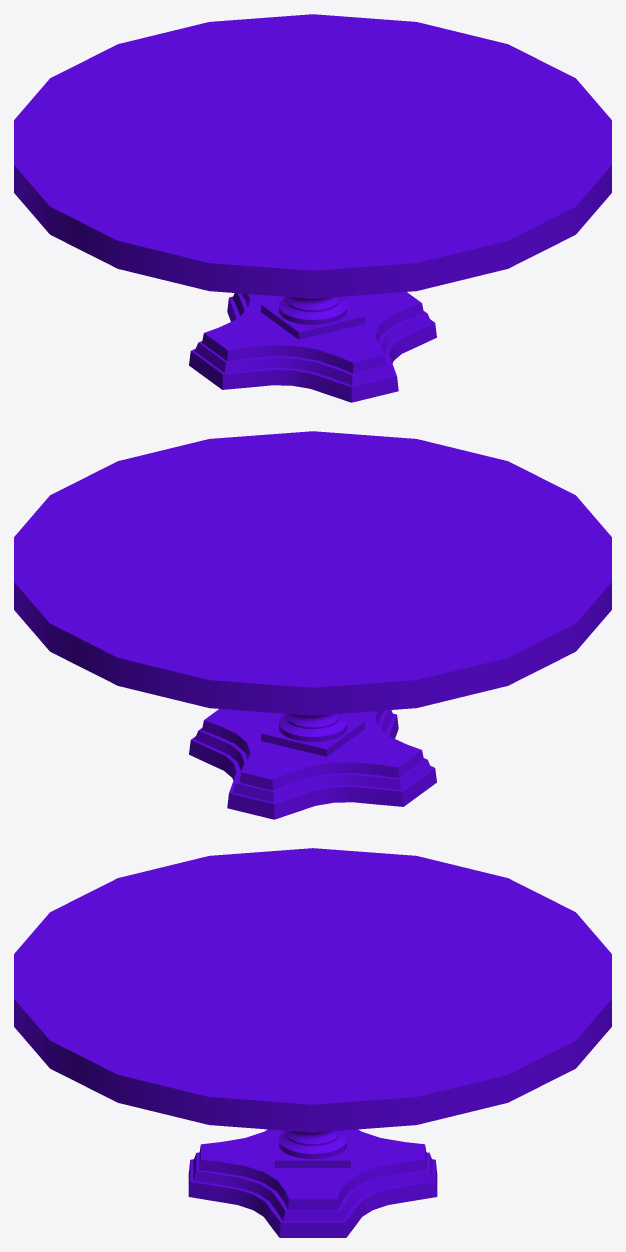
File: table_low.fbx
3 views of the same model, one above another, from view 1: azimuth 30°, elevation 25°; view 2: azimuth 150°, elevation 25°; view 3: azimuth 270°, elevation 25° (orthographic).
Parts seen in each view (by area): view 1: TABLE; view 2: TABLE; view 3: TABLE.
Part boxes in pixels (x1,y1,x2,y2): TABLE: (14, 14, 611, 402); TABLE: (14, 431, 611, 819); TABLE: (14, 848, 611, 1237).
Bounding box in the file's own units: 400 × 152 × 394.
